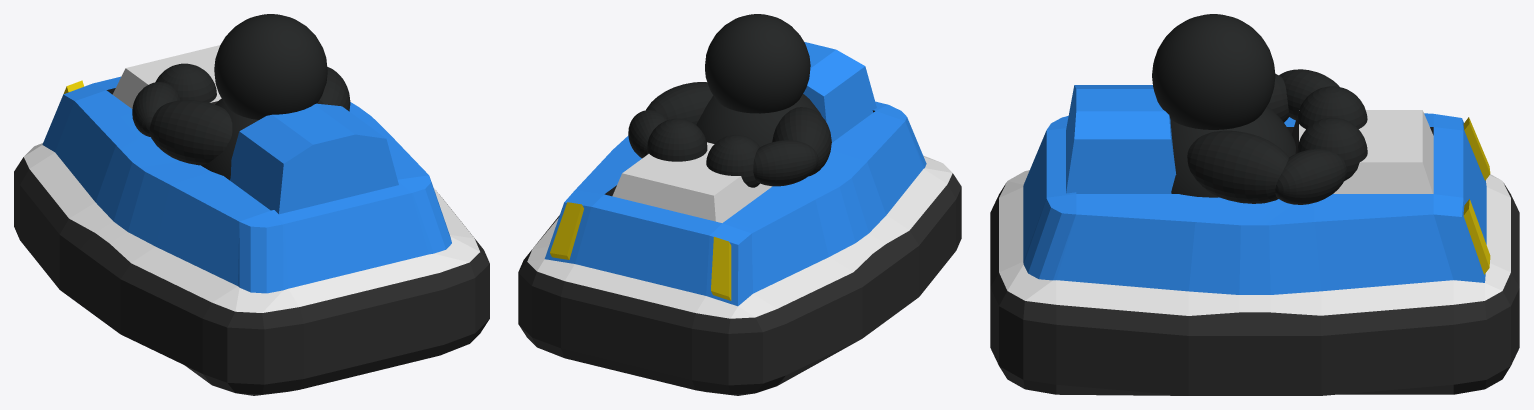
The picture shows the model from 3 angles, left to right: view 1: azimuth 30°, elevation 25°; view 2: azimuth 150°, elevation 25°; view 3: azimuth 270°, elevation 25°; orthographic projection. The views are drawn at different scales.
Parts seen in each view (by area): view 1: AutoNegro; view 2: AutoNegro; view 3: AutoNegro.
Part boxes in pixels (box(x1,y1,x2,y2)): AutoNegro: box(14, 14, 489, 395); AutoNegro: box(518, 14, 961, 395); AutoNegro: box(990, 14, 1519, 395).
Bounding box in the file's own units: 460 × 401 × 600.
